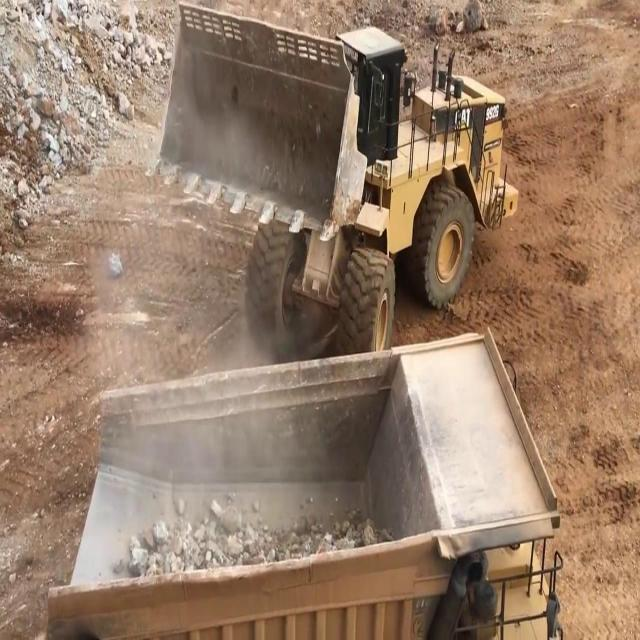Dump Truck: (44, 317, 566, 639)
Loader: (143, 0, 520, 364)
